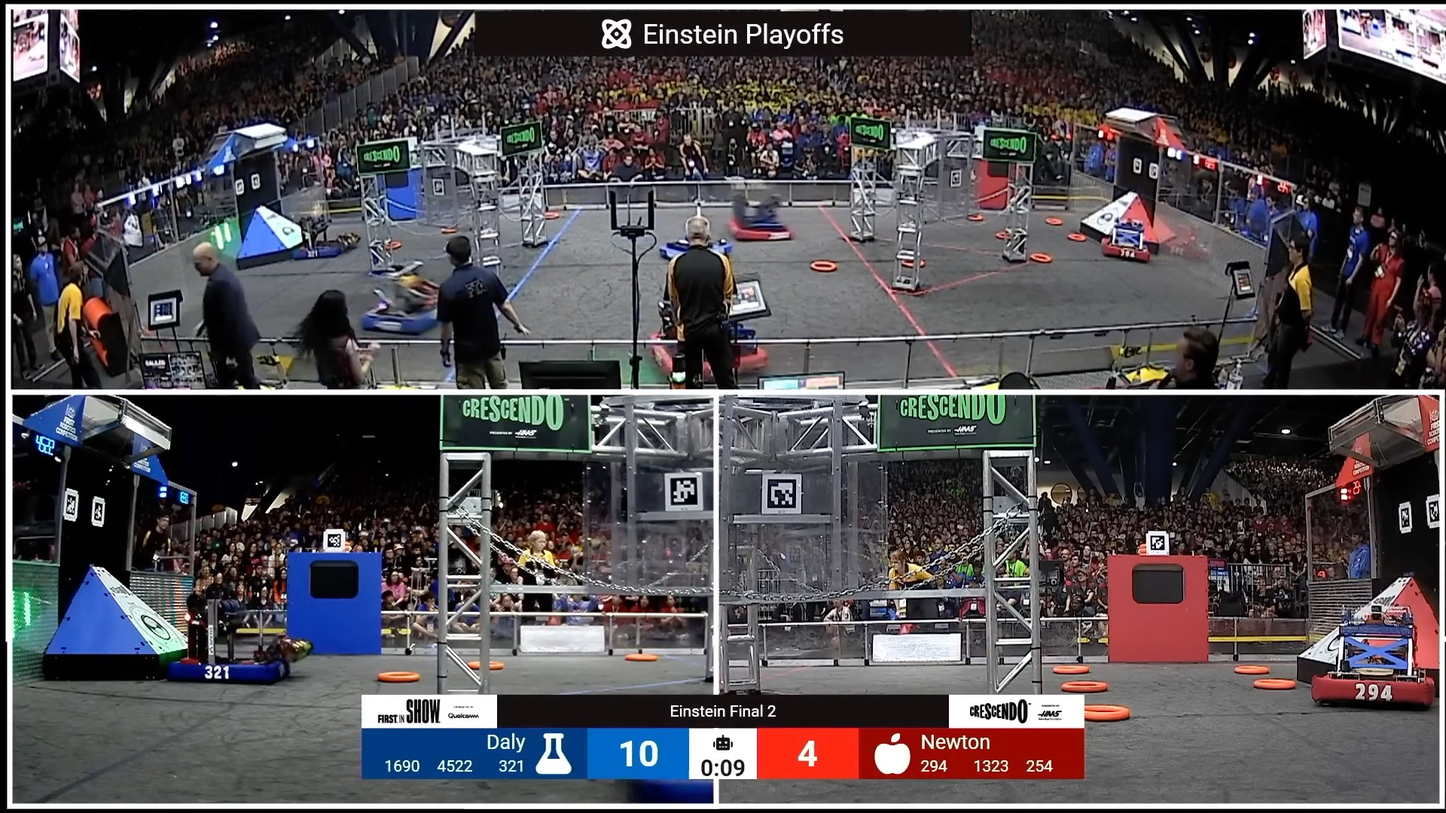bumpers: (634, 320, 779, 381), (1298, 668, 1440, 715), (167, 653, 307, 695), (358, 300, 456, 337), (720, 207, 802, 248), (1097, 232, 1157, 268), (289, 235, 357, 265)
